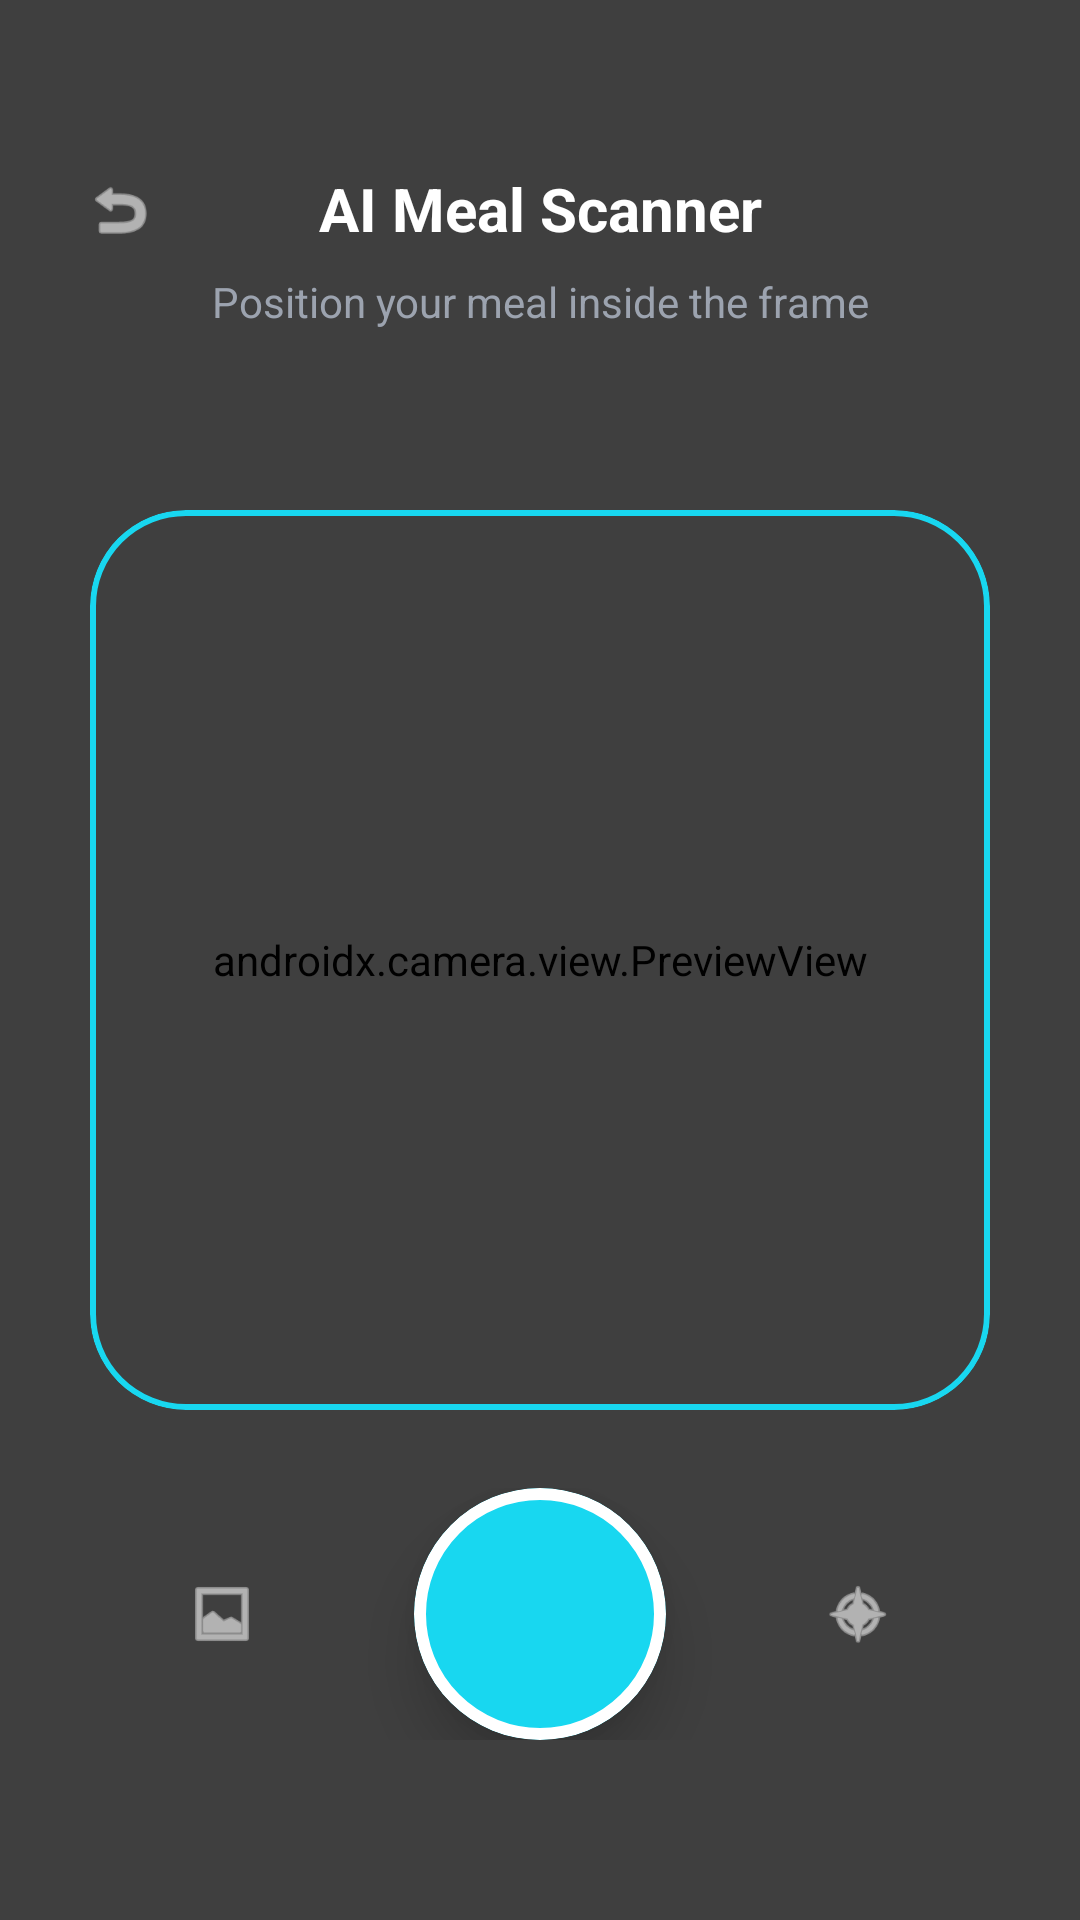

Locate icon controls on the screen. Image size 1080 × 1920, boxes as (x1,y1,x2,y2).
Back: (95,187,147,234)
Gallery: (195,1587,249,1641)
